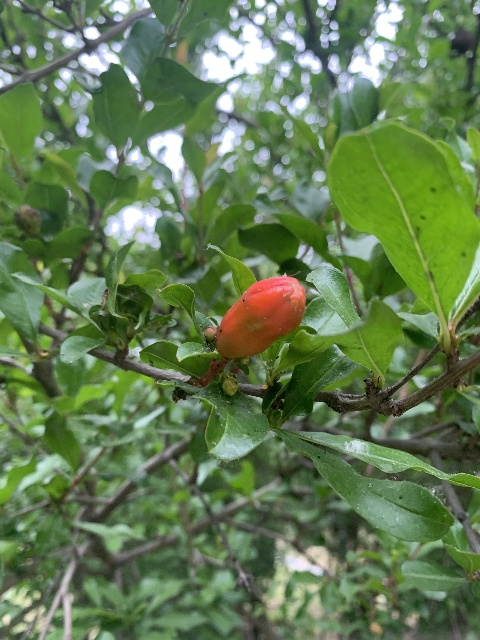bud: (216, 276, 306, 359)
